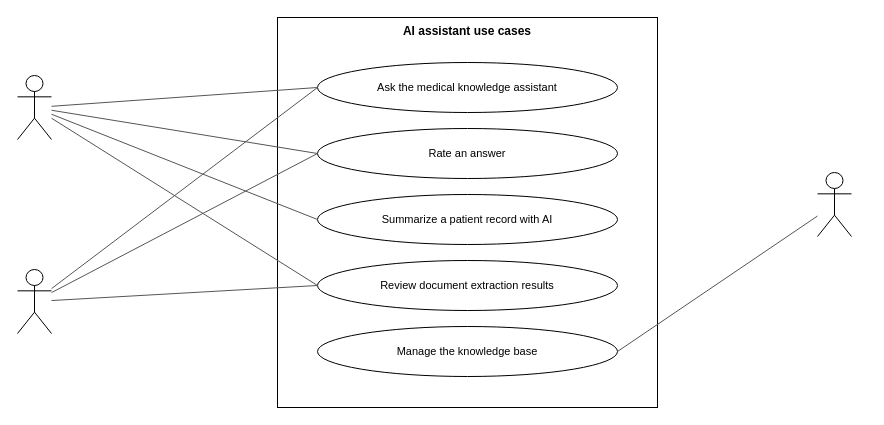
This 884x425 diagram has some shape labels left out. The centre of each missing label's shape, as x and y in pixels:
"Administrator" belongs at point (834, 204).
"Doctor" belongs at point (34, 107).
"Nurse" belongs at point (34, 301).
